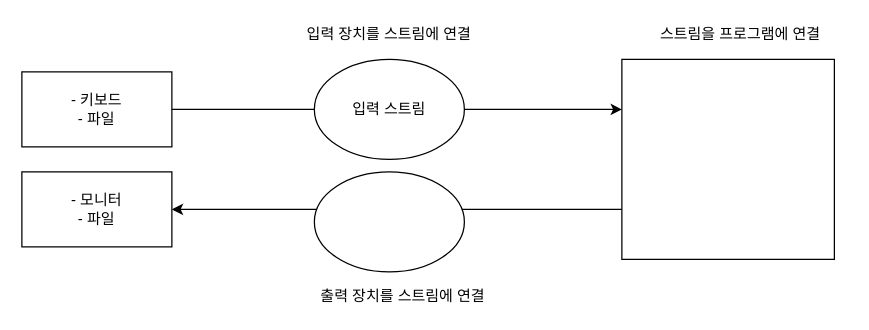
Some shapes in this 869 by 330 pixel diagram are drawn without their labels. Here are the shapes that lost their labels. From the top down, the centre of each, then its label:
At [727,158]: "프로그램".
At [388,221]: "출력 스트림".
